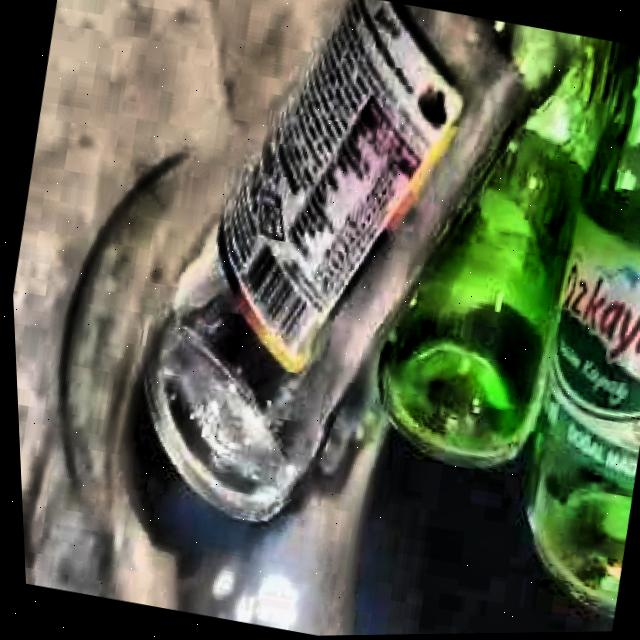glass: (140, 0, 640, 617)
